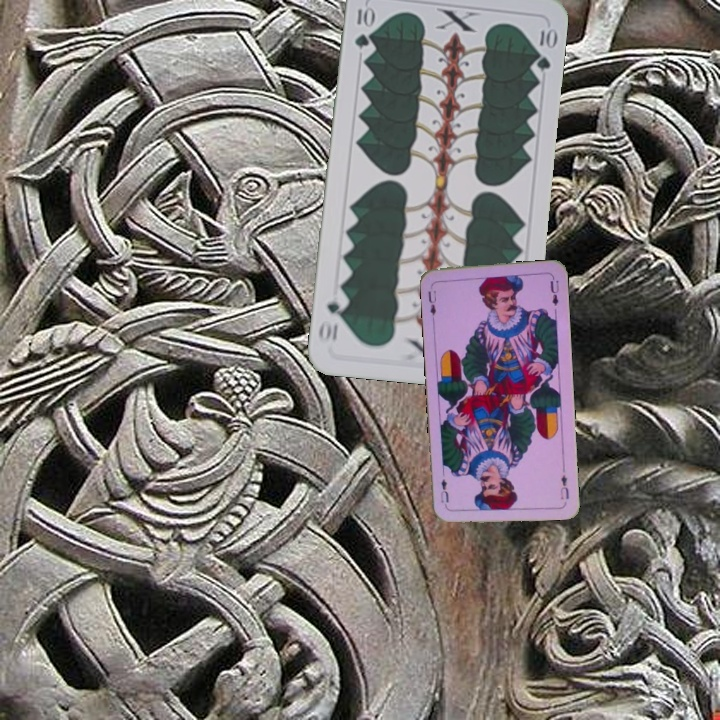EU: (424, 281, 439, 321), (556, 471, 571, 502)
G10: (351, 2, 374, 51)
